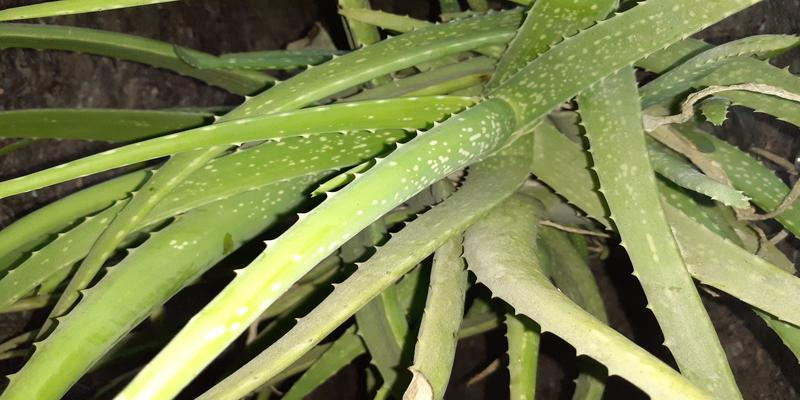Aloevera: (198, 29, 777, 374)
